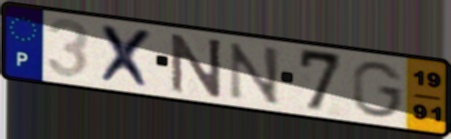3: (45, 17, 96, 82)
7: (297, 46, 346, 114)
G: (350, 59, 407, 120)
N: (168, 31, 225, 100), (226, 40, 283, 107)
X: (98, 22, 158, 92)
